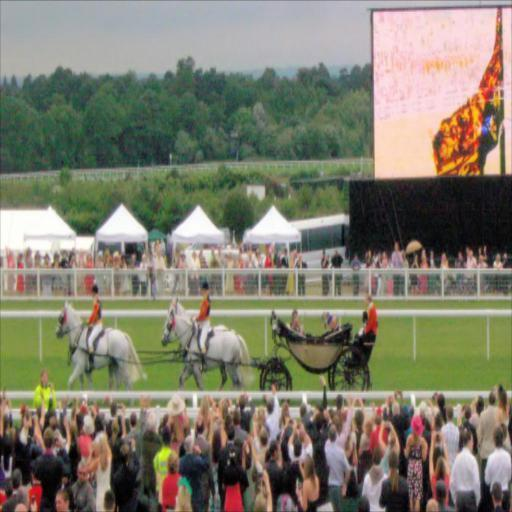horse: (54, 304, 146, 404), (163, 308, 253, 404), (164, 295, 230, 388)
